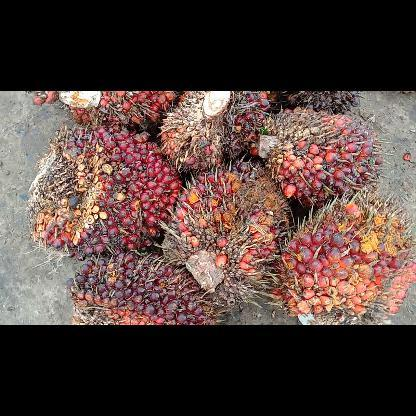TBS masak: (161, 161, 297, 303), (276, 194, 414, 324), (27, 134, 179, 252), (263, 110, 387, 206), (66, 254, 224, 324), (161, 92, 266, 170), (58, 92, 176, 134), (273, 91, 365, 117)
